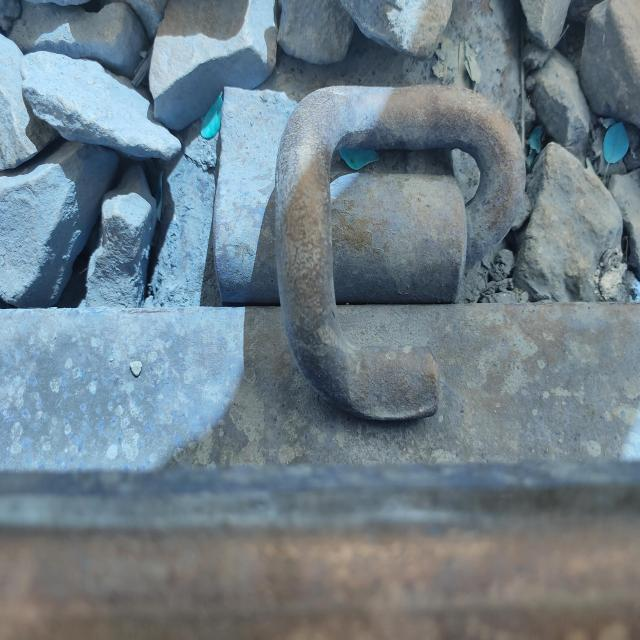Good Fasteners: (205, 65, 507, 436)
